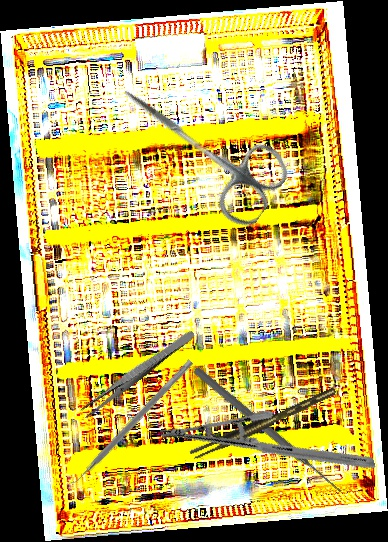Dressing Forceps: (78, 326, 197, 420)
Iris Scissors: (99, 59, 297, 234)
Needle Holder: (158, 360, 377, 536)
Pusher: (191, 365, 346, 497)
Spatula Surgical: (64, 353, 194, 492)
Tissue Forceps: (187, 387, 340, 461)
